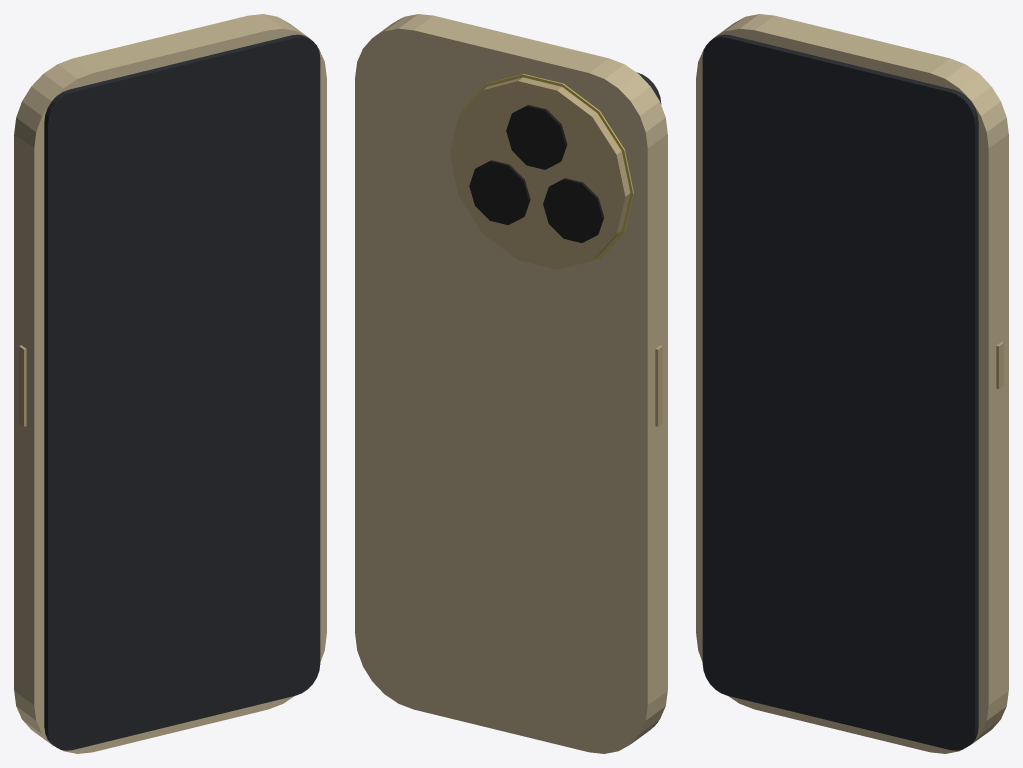
The model's file is 29_huawei_pura_80_ultra.glb.
The picture shows the model from 3 angles, left to right: view 1: azimuth 30°, elevation 25°; view 2: azimuth 150°, elevation 25°; view 3: azimuth 330°, elevation 25°; orthographic projection.
Visible parts, largest first — view 1: geometry_1, geometry_0, geometry_3; view 2: geometry_0, geometry_5, geometry_9, geometry_11, geometry_7, geometry_6, geometry_3; view 3: geometry_1, geometry_0.
Part boxes in pixels (x1,y1,x2,y2): geometry_1: (44,34,320,750); geometry_0: (14,14,326,753); geometry_3: (19,345,26,426); geometry_0: (355,14,667,753); geometry_5: (450,77,630,269); geometry_9: (543,178,604,242); geometry_11: (469,160,530,225); geometry_7: (506,105,567,169); geometry_6: (460,74,633,268); geometry_3: (655,345,662,426); geometry_1: (702,34,978,750); geometry_0: (696,14,1008,753).
Size of the model in its own units: 0.2325 by 0.509 by 0.0424.
